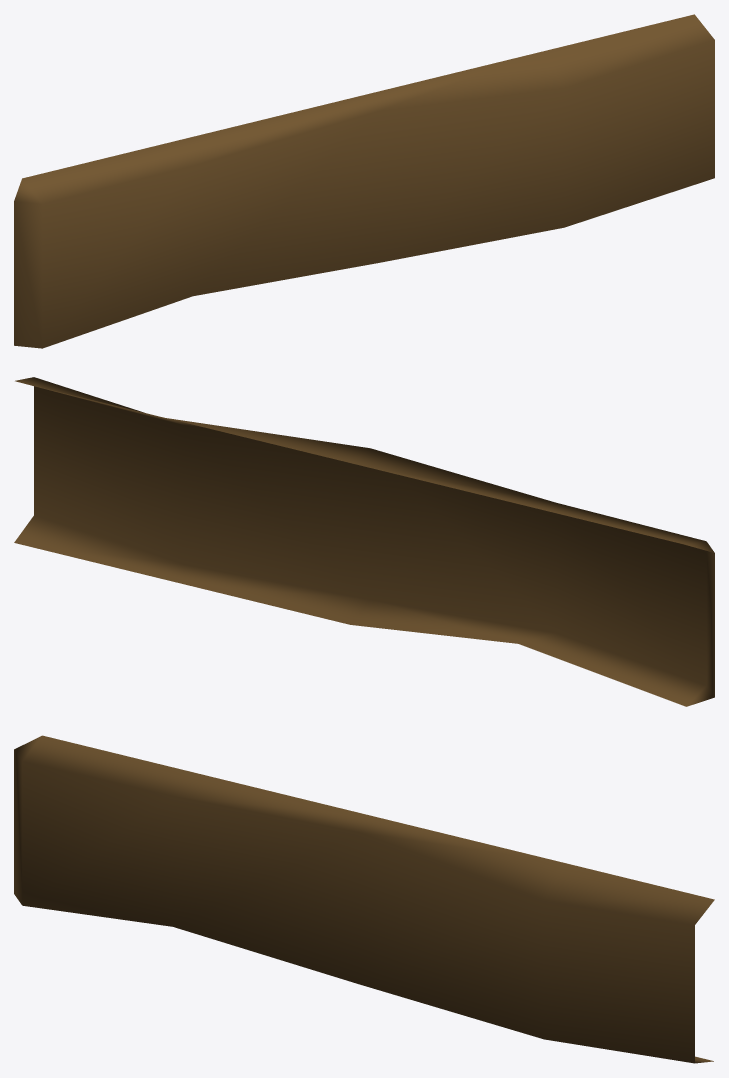
Rendered from Trim_OuterCorner_L_Base.fbx.
3 views of the same model, one above another, from view 1: azimuth 30°, elevation 25°; view 2: azimuth 150°, elevation 25°; view 3: azimuth 330°, elevation 25° (orthographic).
Visible parts, largest first — view 1: Trim_OuterCorner_L_01; view 2: Trim_OuterCorner_L_01; view 3: Trim_OuterCorner_L_01.
Boxes of the visible parts, x1,y1,x2,y2 form: Trim_OuterCorner_L_01: (14,14,714,348); Trim_OuterCorner_L_01: (14,377,714,706); Trim_OuterCorner_L_01: (14,735,714,1063).
Bounding box in the file's own units: 103 × 22.99 × 5.23.
